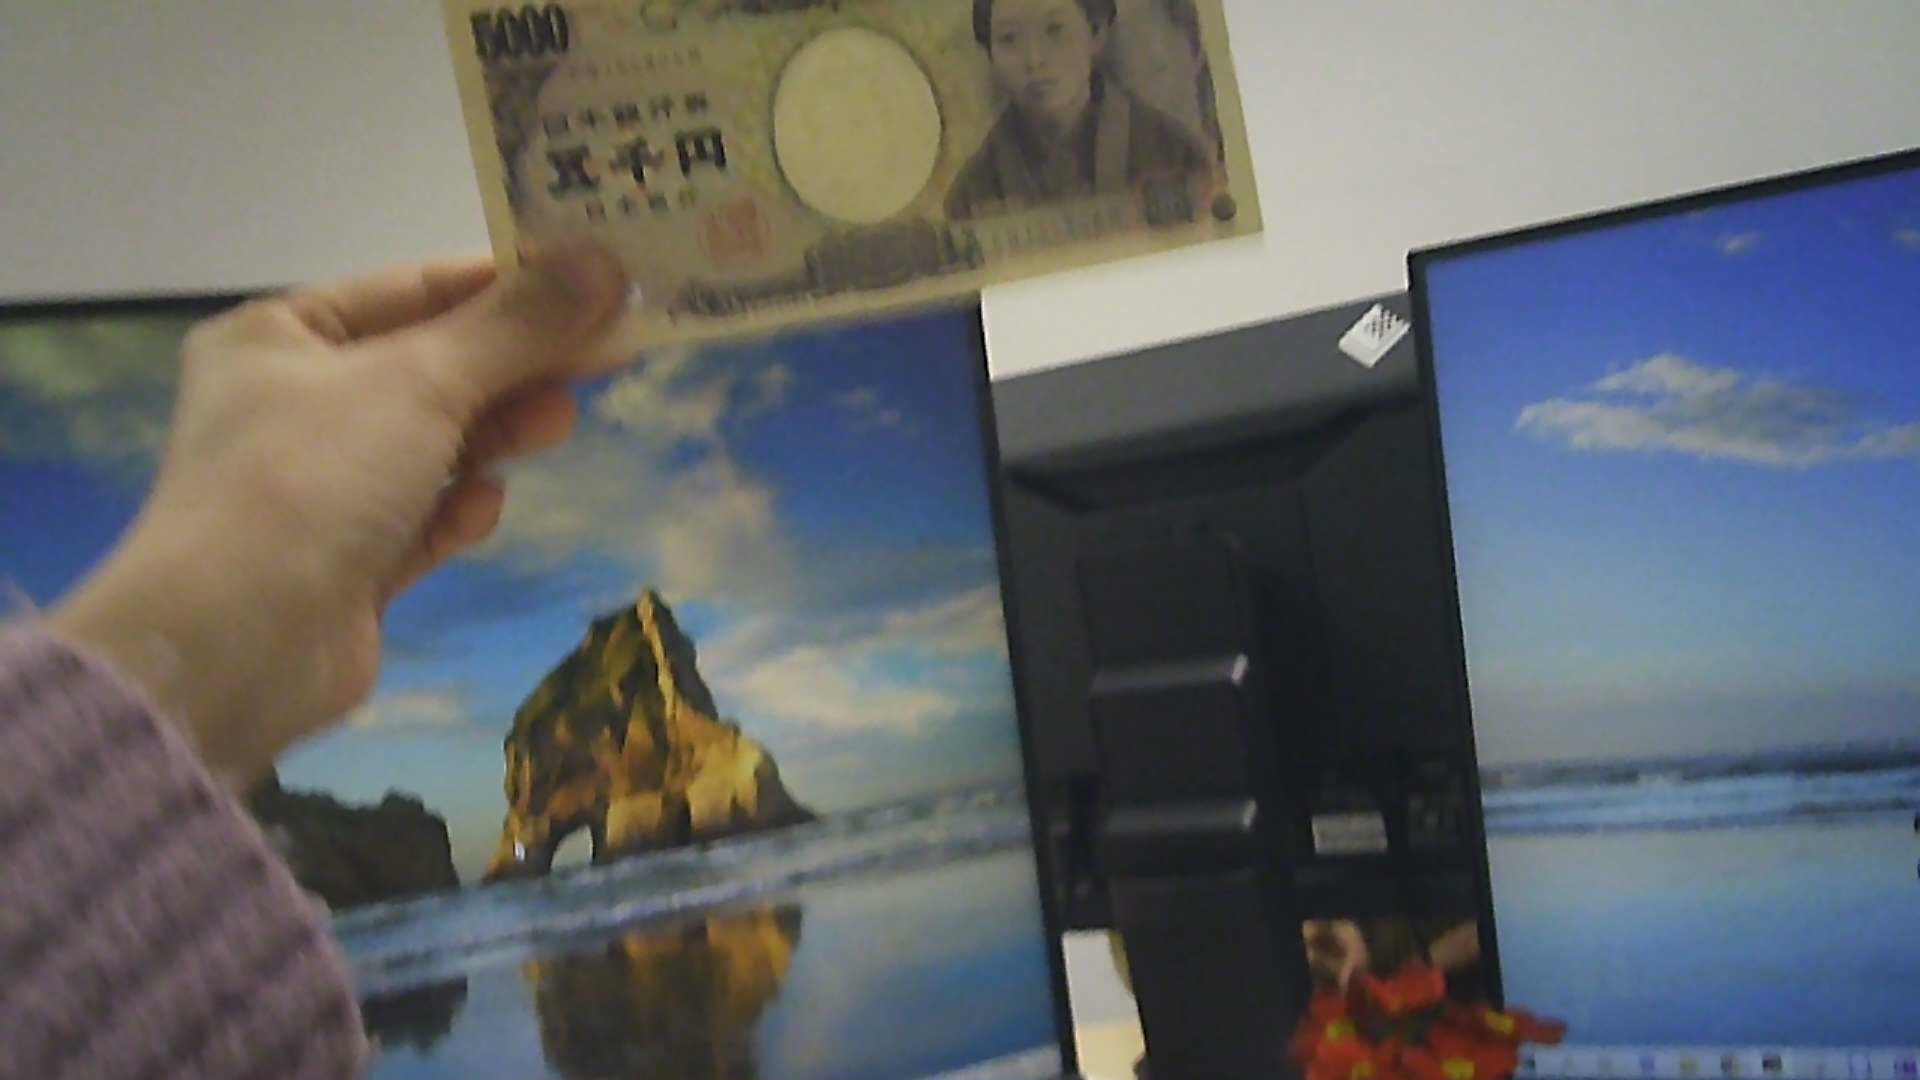5,000 Yen: (419, 3, 1279, 357)
